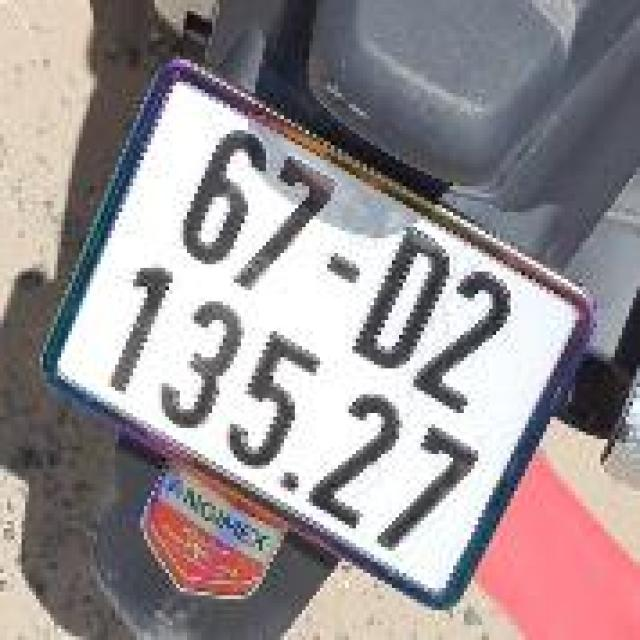1: (83, 250, 196, 408)
2: (404, 253, 538, 427), (298, 374, 418, 537)
3: (149, 282, 264, 445)
5: (213, 312, 339, 484)
6: (168, 113, 288, 283)
7: (365, 411, 502, 574), (225, 142, 355, 305)
D: (339, 211, 468, 388)
